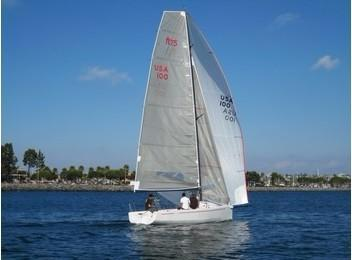fanchuan: (127, 9, 247, 227)
